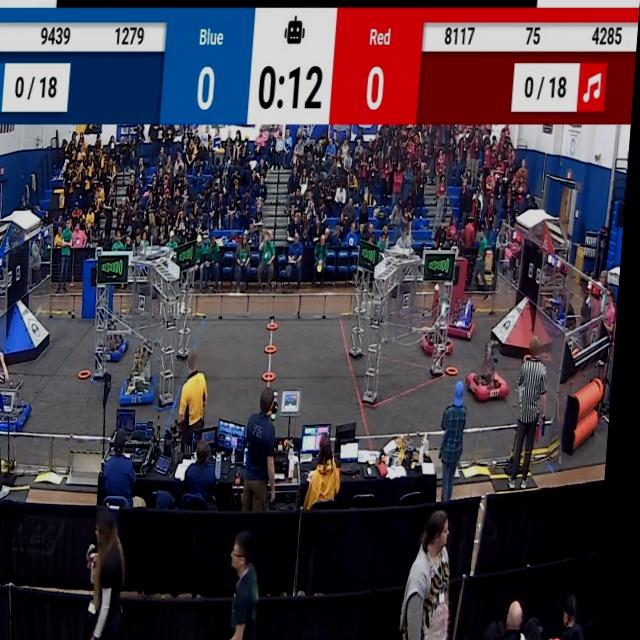Robot: (420, 266, 464, 364), (0, 343, 45, 431), (470, 335, 520, 408), (95, 298, 139, 374), (127, 336, 167, 410), (451, 294, 483, 339)
